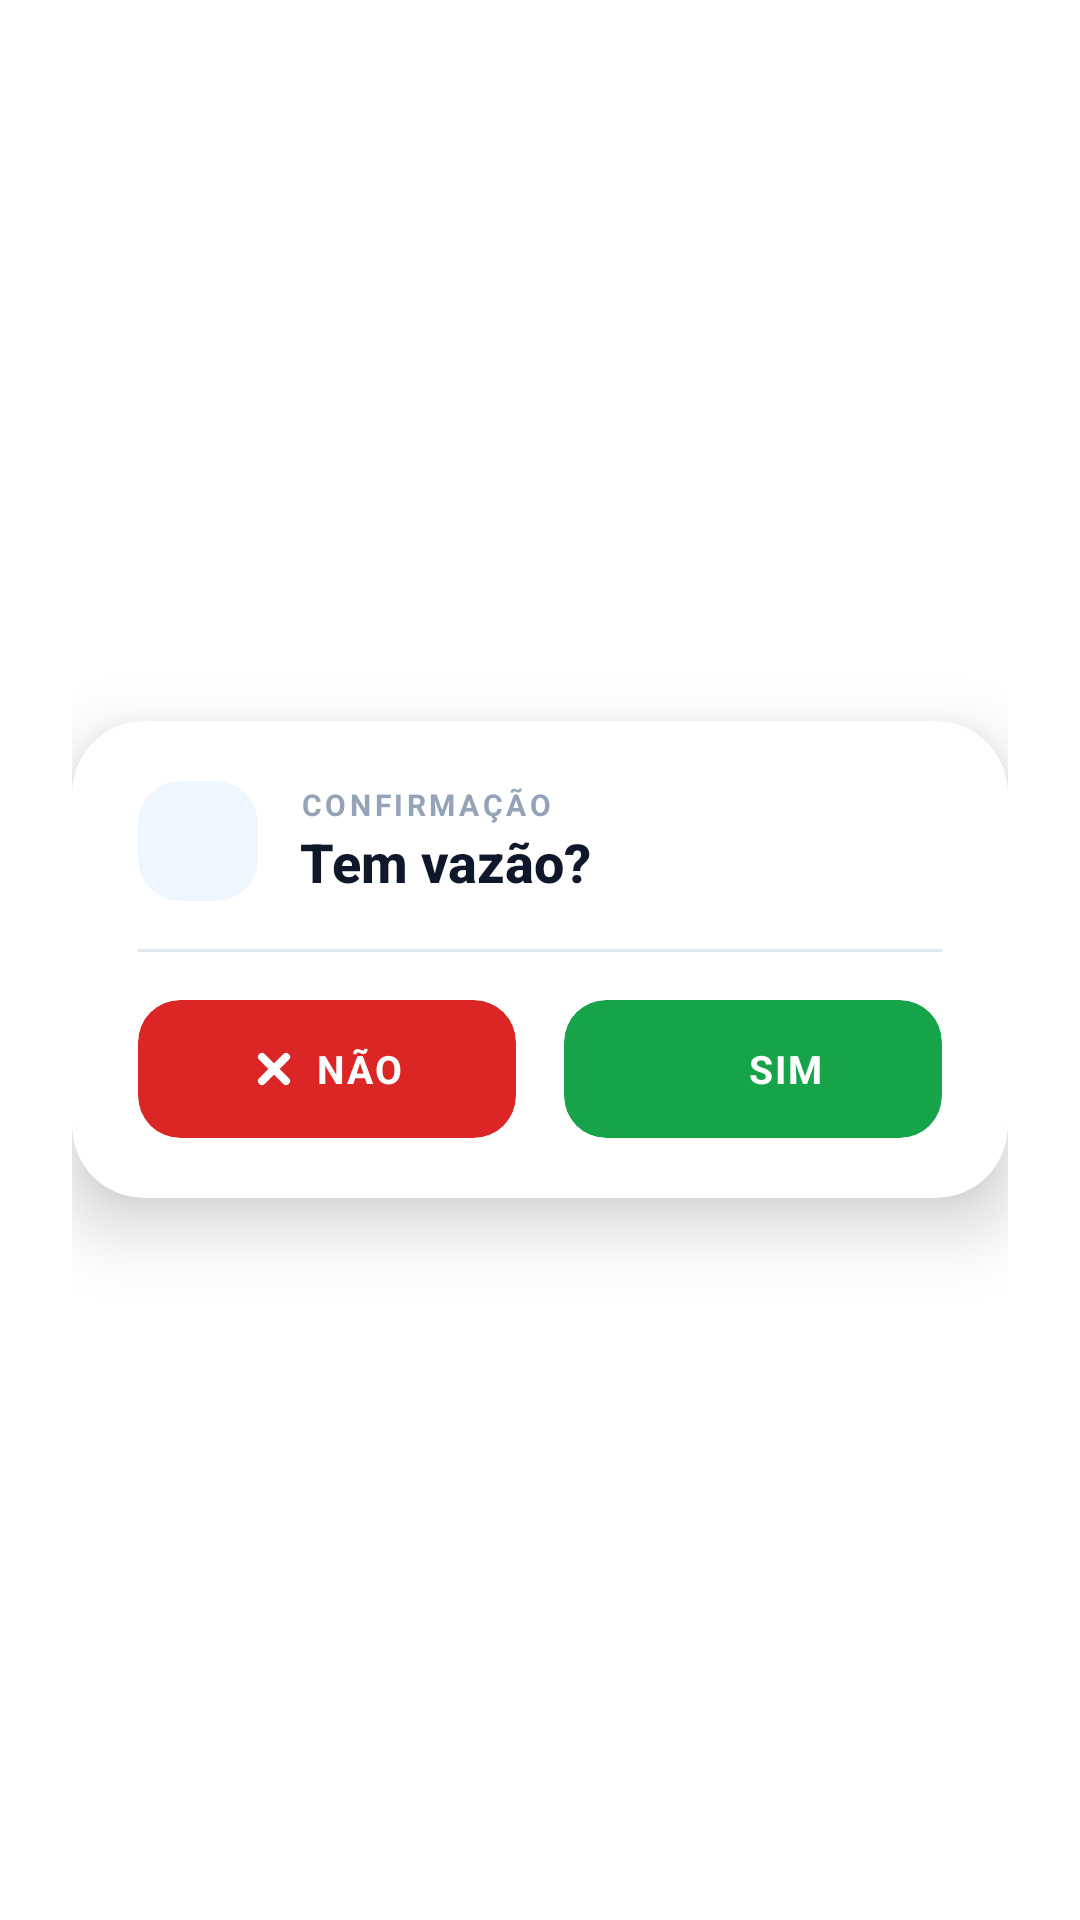

Named icons in this screenshot (1080*1920) and their bounding boxes, Rect(x1, y1, x2, y2):
vazao close: Rect(257, 1052, 291, 1086)
